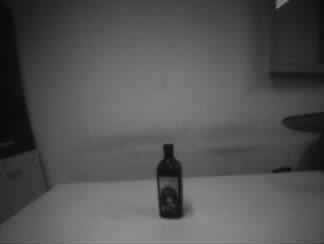Bottle: (156, 144, 184, 219)
